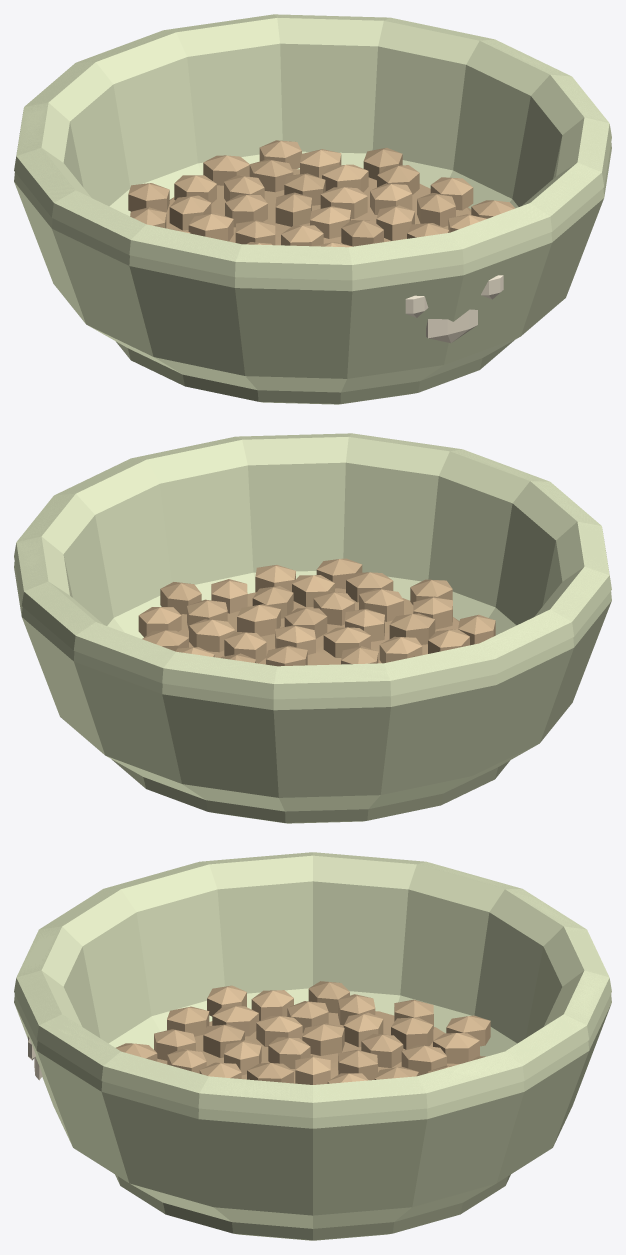
The model's file is crafted-cat-food-4-1.glb.
3 renders of one model, top to bottom at view 1: azimuth 30°, elevation 25°; view 2: azimuth 150°, elevation 25°; view 3: azimuth 270°, elevation 25°, orthographic.
Parts seen in each view (by area): view 1: ceramic-bowl, glazed-rim, foot-ring, ration-volume, ration-granule-2, paw-pad, ration-granule-21, ration-granule-7, ration-granule-5, ration-granule-8, ration-granule-41, ration-granule-36 (+19 smaller); view 2: ceramic-bowl, glazed-rim, foot-ring, ration-volume, ration-granule-8, ration-granule-13, ration-granule-14, ration-granule-19, ration-granule-1, ration-granule-34, ration-granule-5, ration-granule-11 (+19 smaller); view 3: ceramic-bowl, glazed-rim, foot-ring, ration-volume, ration-granule-4, ration-granule-28, ration-granule-20, ration-granule-9, ration-granule-7, ration-granule-15, ration-granule-1, ration-granule-35 (+17 smaller).
Boxes of the visible parts, x1,y1,x2,y2 form: ceramic-bowl: [14, 14, 611, 392]; glazed-rim: [14, 14, 611, 280]; foot-ring: [116, 340, 514, 404]; ration-volume: [166, 169, 471, 245]; ration-granule-2: [275, 192, 311, 226]; paw-pad: [426, 309, 477, 343]; ration-granule-21: [417, 193, 455, 227]; ration-granule-7: [225, 194, 267, 227]; ration-granule-5: [320, 187, 367, 218]; ration-granule-8: [376, 205, 414, 240]; ration-granule-41: [128, 183, 169, 212]; ration-granule-36: [203, 155, 249, 185]; ceramic-bowl: [14, 433, 611, 811]; glazed-rim: [14, 433, 611, 699]; foot-ring: [111, 759, 509, 823]; ration-volume: [178, 588, 459, 665]; ration-granule-8: [237, 604, 280, 636]; ration-granule-13: [189, 619, 235, 652]; ration-granule-14: [389, 613, 435, 644]; ration-granule-19: [359, 588, 403, 621]; ration-granule-1: [323, 627, 370, 657]; ration-granule-34: [138, 607, 181, 637]; ration-granule-5: [224, 631, 266, 663]; ration-granule-11: [313, 591, 354, 625]; ceramic-bowl: [14, 852, 611, 1228]; glazed-rim: [14, 852, 611, 1117]; foot-ring: [115, 1174, 510, 1240]; ration-volume: [157, 1011, 480, 1083]; ration-granule-4: [302, 1023, 344, 1055]; ration-granule-28: [433, 1033, 479, 1063]; ration-granule-20: [391, 1017, 433, 1049]; ration-granule-9: [256, 1016, 302, 1046]; ration-granule-7: [361, 1033, 403, 1067]; ration-granule-15: [401, 1045, 446, 1075]; ration-granule-1: [268, 1037, 310, 1068]; ration-granule-35: [167, 1006, 209, 1036].
Bounding box in the file's own units: 0.76 × 0.265 × 0.76.
